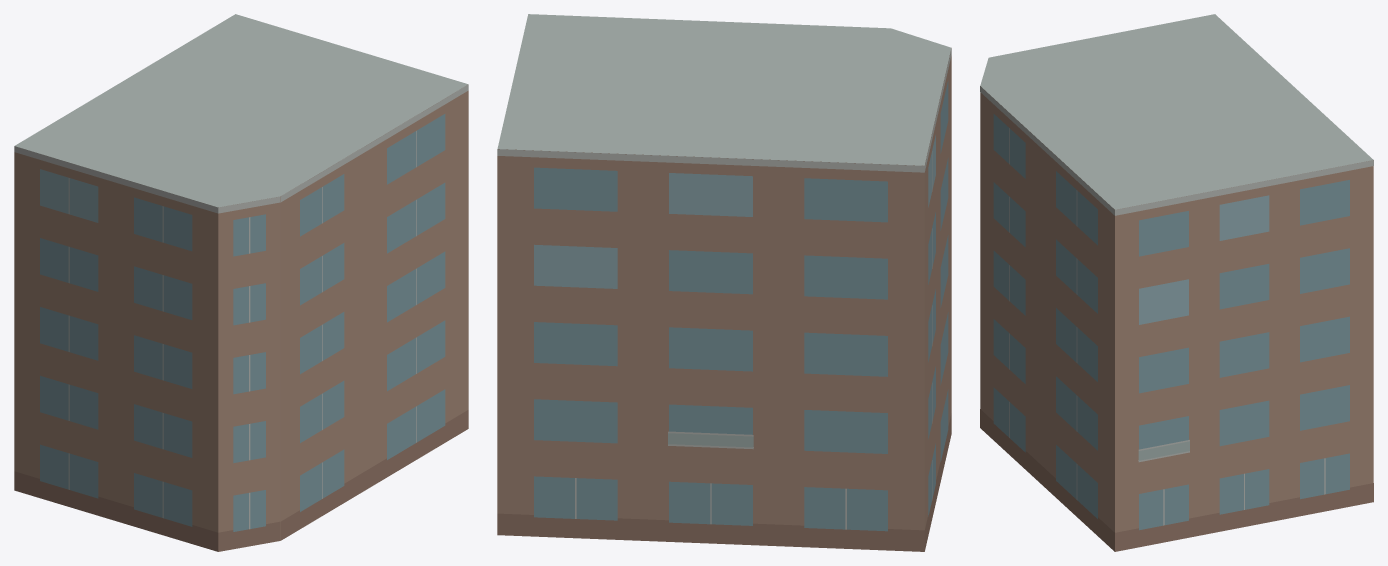
File: survey-upis-32752992.glb
3 views of the same model, side by side, from view 1: azimuth 30°, elevation 25°; view 2: azimuth 150°, elevation 25°; view 3: azimuth 270°, elevation 25° (orthographic). The views are drawn at different scales.
Parts seen in each view (by area): view 1: survey-upis-32752992.tmp; view 2: survey-upis-32752992.tmp; view 3: survey-upis-32752992.tmp.
Part boxes in pixels (left/top/right/bottom): survey-upis-32752992.tmp: left=14, top=14, right=468, bottom=551; survey-upis-32752992.tmp: left=497, top=14, right=951, bottom=551; survey-upis-32752992.tmp: left=980, top=14, right=1373, bottom=551.
Bounding box in the file's own units: 16.95 × 13.8 × 14.4.
